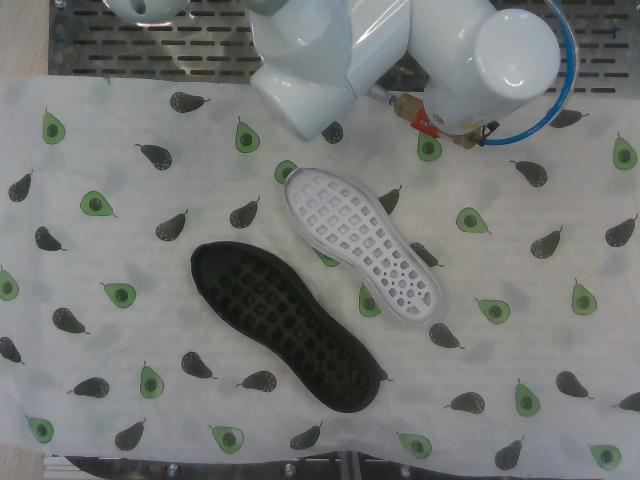shoes: (192, 244, 370, 410), (285, 167, 441, 324)
